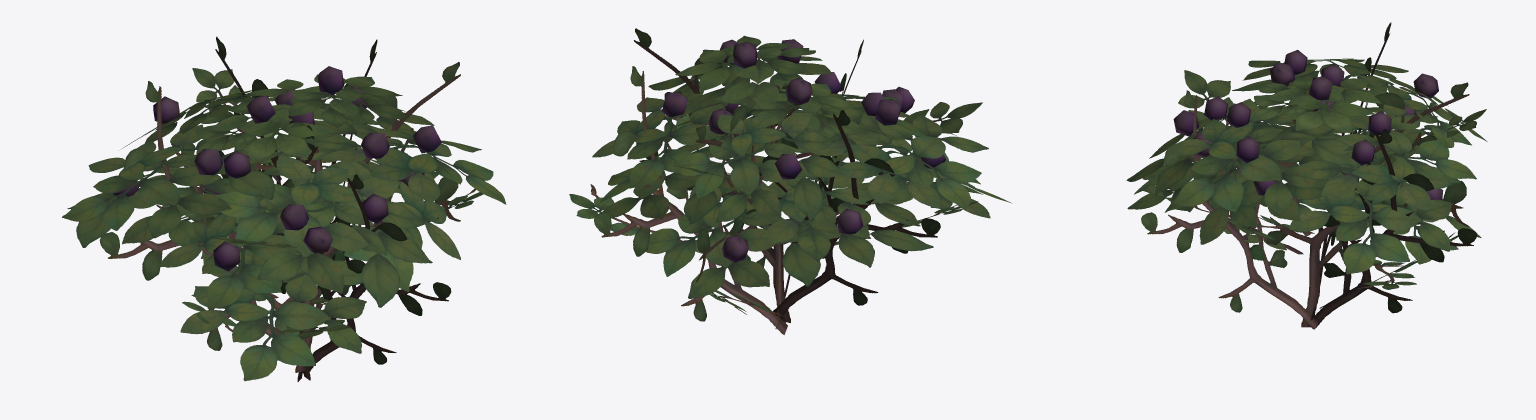
File: BerryBush2.FBX
3 renders of one model, left to right at view 1: azimuth 30°, elevation 25°; view 2: azimuth 150°, elevation 25°; view 3: azimuth 270°, elevation 25°, orthographic. The views are drawn at different scales.
Parts seen in each view (by area): view 1: Jiangguocong1, Jiangguocong2; view 2: Jiangguocong1, Jiangguocong2; view 3: Jiangguocong1, Jiangguocong2.
Part boxes in pixels (x1,y1,x2,y2): Jiangguocong1: (62,36,506,381); Jiangguocong2: (113,66,441,271); Jiangguocong1: (569,28,1011,334); Jiangguocong2: (662,39,945,262); Jiangguocong1: (1126,22,1487,329); Jiangguocong2: (1173,50,1443,200).
Bounding box in the file's own units: 1.56 × 1.15 × 1.53.
